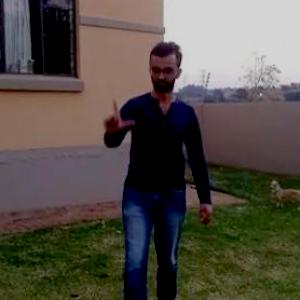land_hand: (98, 95, 137, 135)
